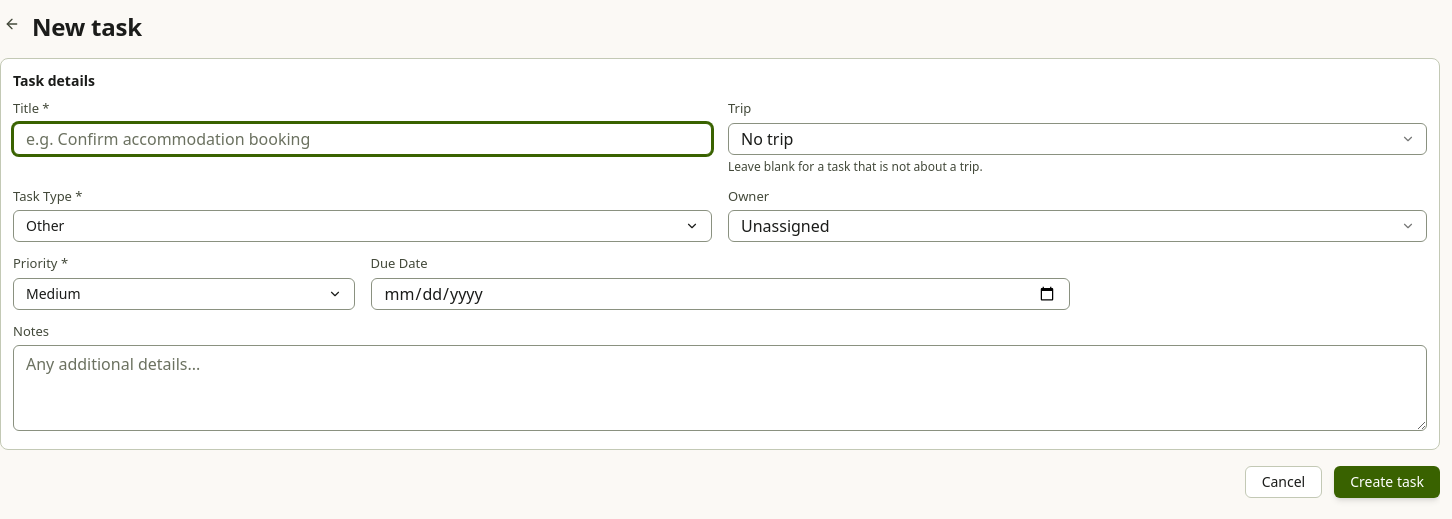
Test case: TaskCreatePage — UX-01 Owner picker (SearchableSelect) › selects an owner via keyboard only (ArrowDown + Enter)
Click the dropdown showing "Unassigned" below "Owner".
click(1078, 226)  # box [728,210,1427,242]
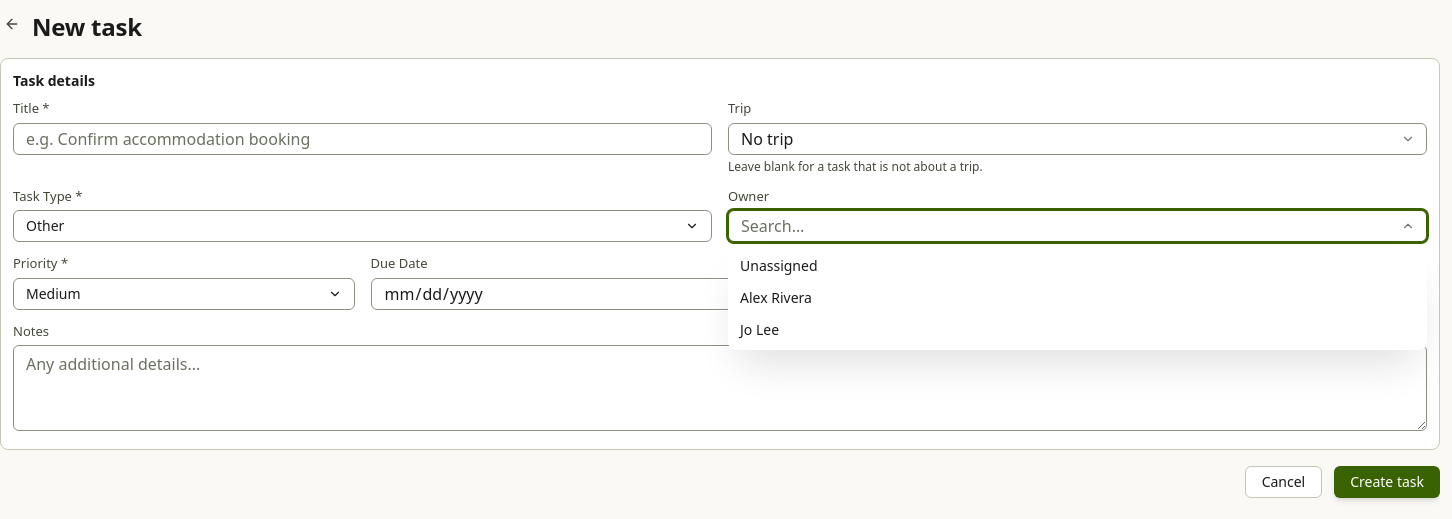
First enabled option is 'Unassigned' (value '') — one more ArrowDown reaches staff-1.
Press Arrowdown Arrowdown Enter
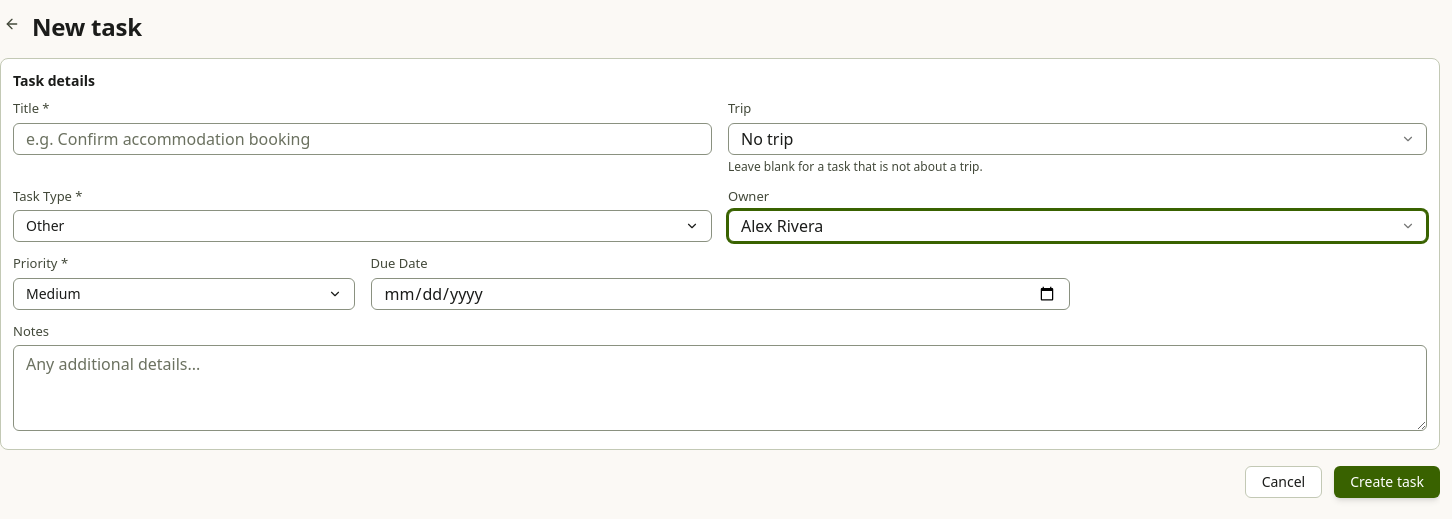
Result: the dropdown showing "Unassigned" below "Owner" holds "Alex Rivera" at [728,210,1427,242]
